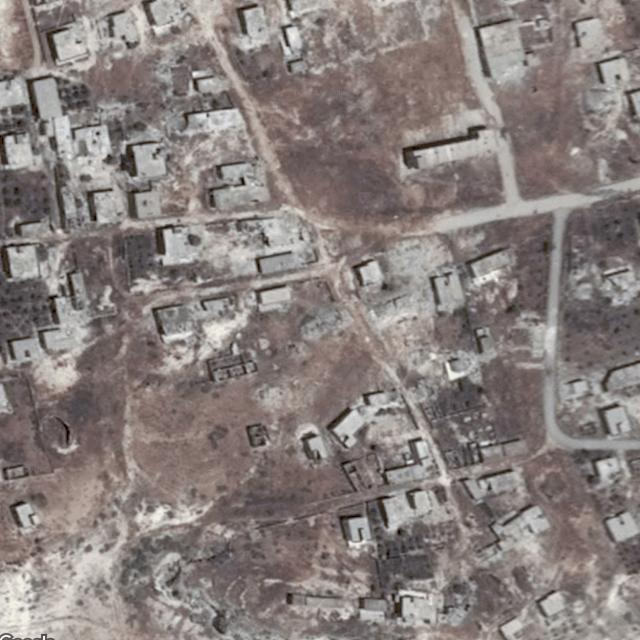damaged_building: (362, 234, 452, 355), (187, 215, 310, 272), (298, 307, 353, 345)
